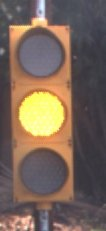Yellow: (8, 20, 76, 206)
